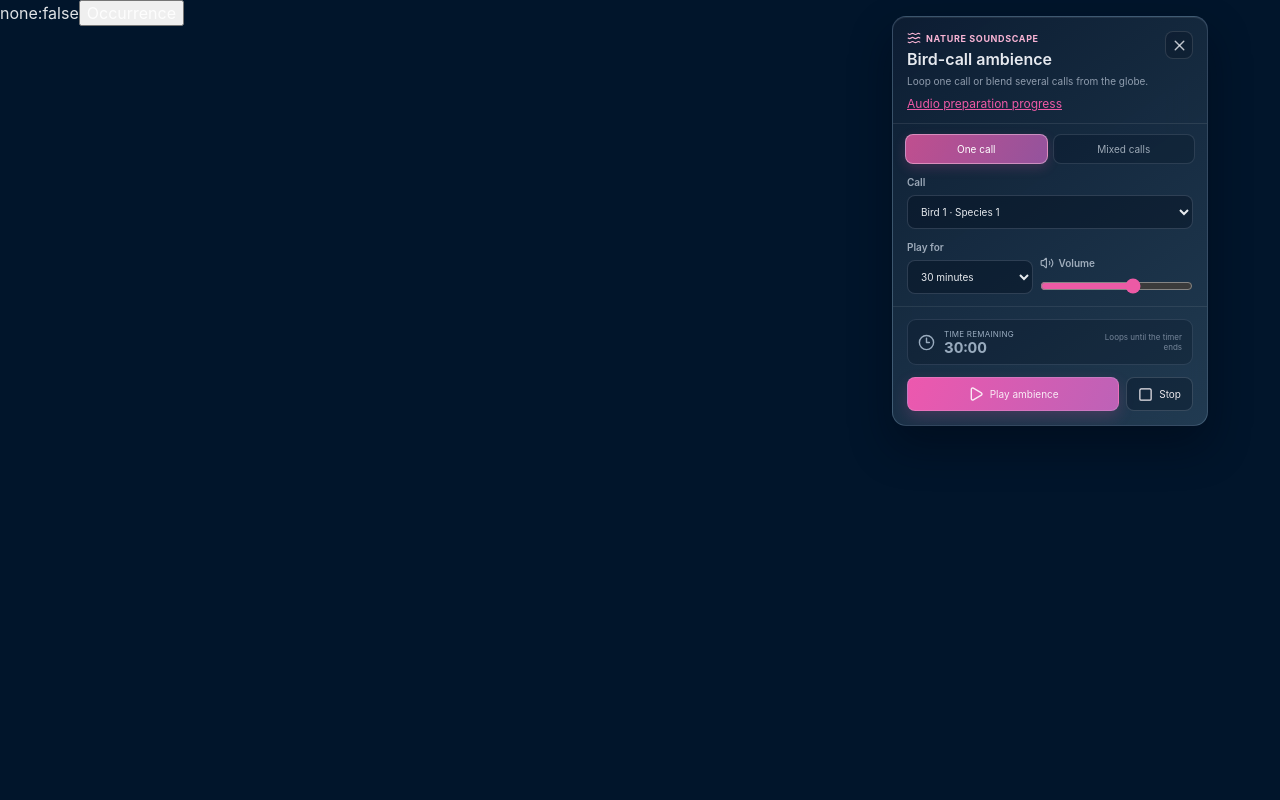
ambient playback › continues a partial mix and exposes the failed source
This screenshot has width=1280, height=800.
Click the tab "Mixed calls" at (1124,149), box [1052,134,1195,164]
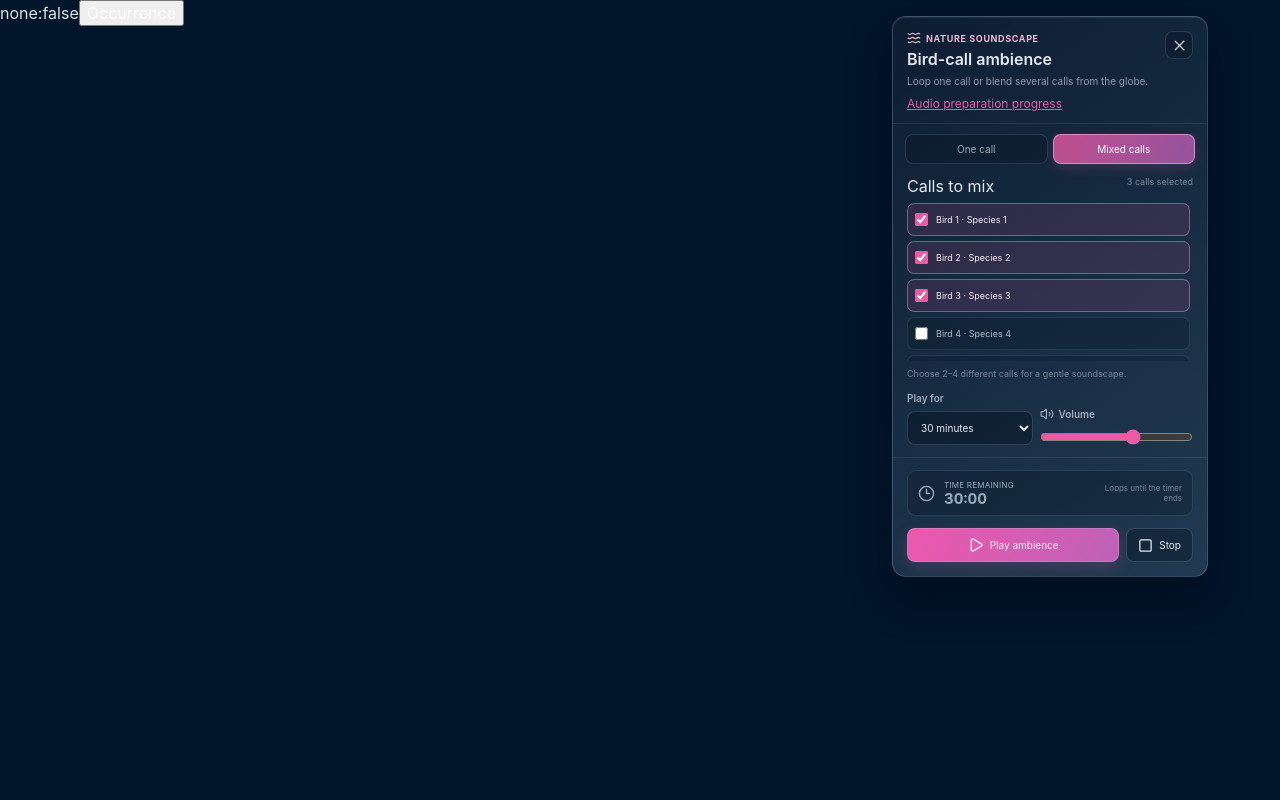
Click the button "Play ambience" at (1013,545), box [907,528,1119,562]
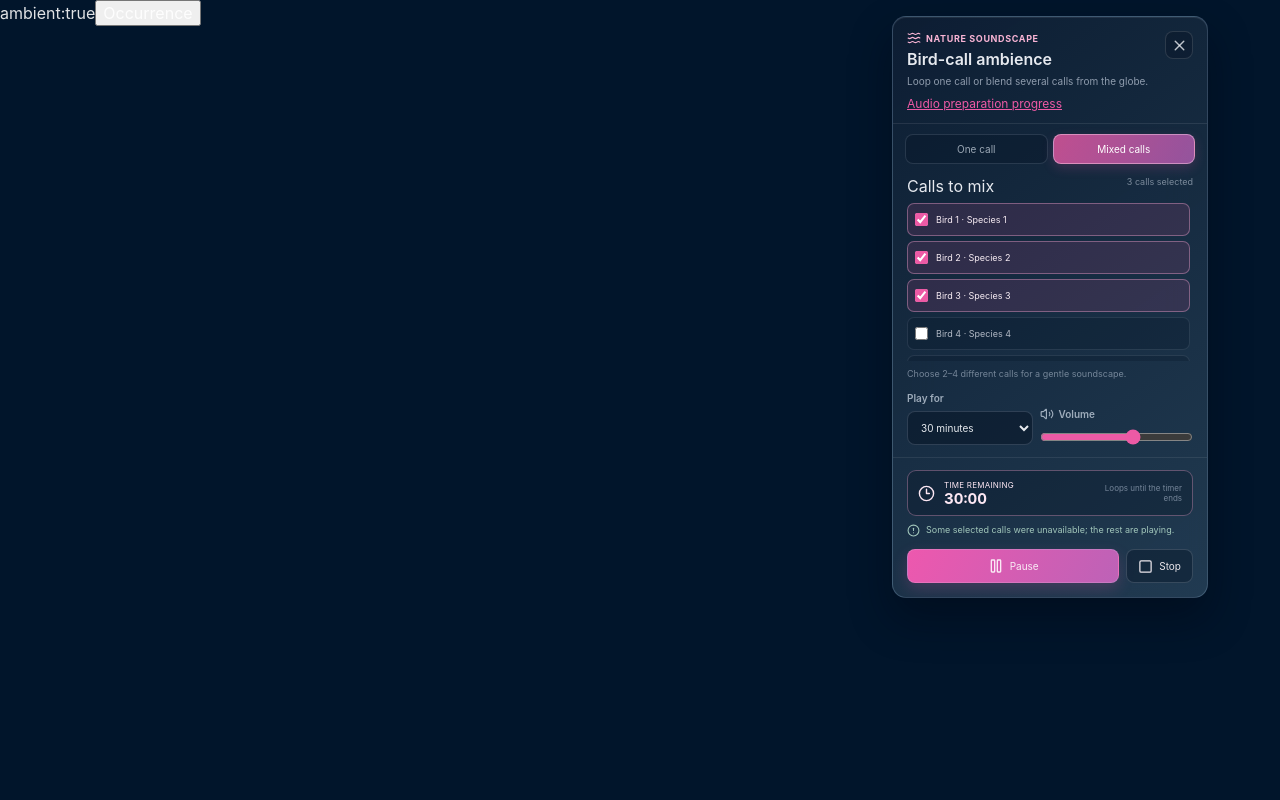
expect the text with test id "audio-state" reads "ambient:true": met, box [0,3,95,23]
expect the text "Some selected calls were unavailable; the rest are playing." is shown: met, box [907,524,1193,537]
